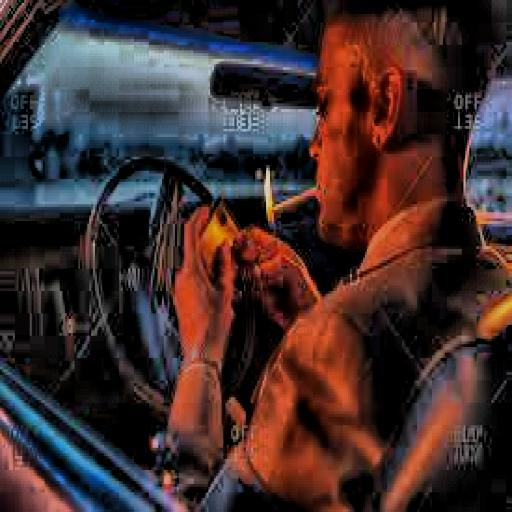fire: (259, 157, 279, 224)
